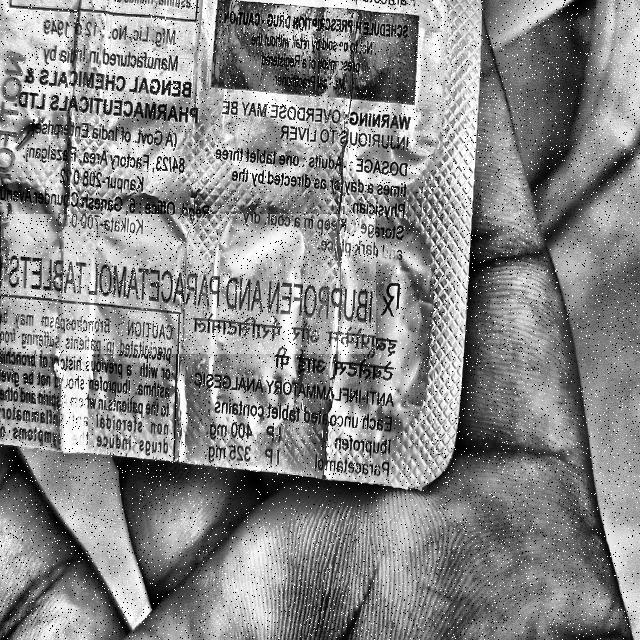IBUPROFEN AND PARACETAMOL TABLETS: (1, 215, 375, 353)
